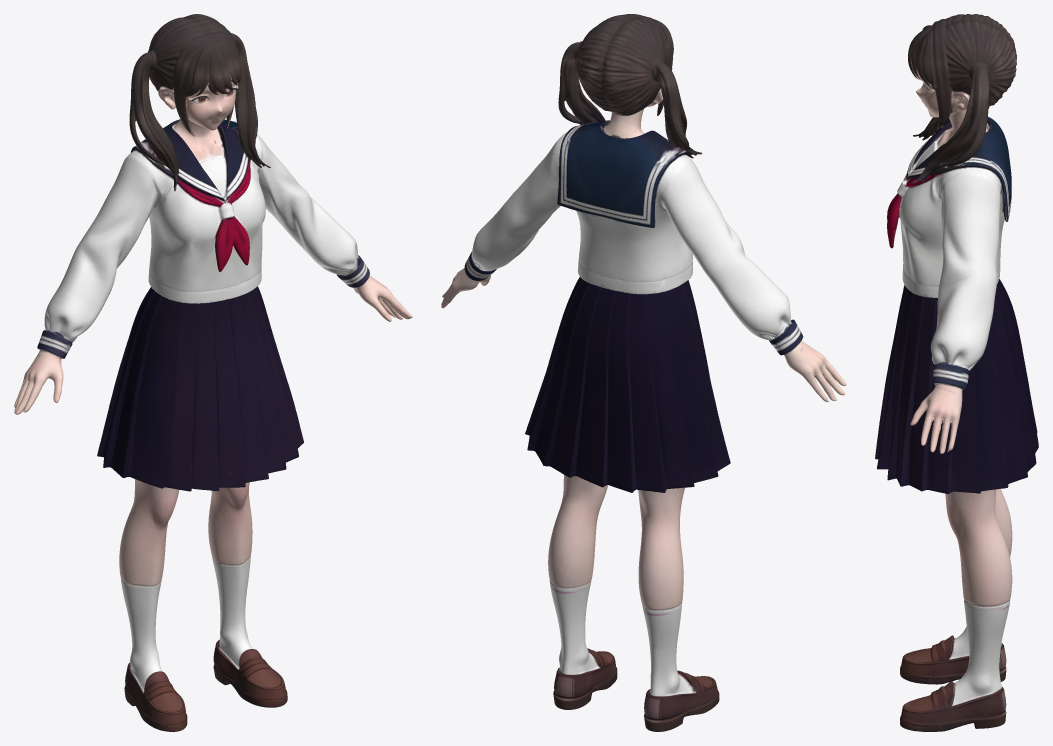
Rendered from player.glb.
The picture shows the model from 3 angles, left to right: view 1: azimuth 30°, elevation 25°; view 2: azimuth 150°, elevation 25°; view 3: azimuth 270°, elevation 25°; orthographic projection.
Parts seen in each view (by area): view 1: mesh_node_0; view 2: mesh_node_0; view 3: mesh_node_0.
Part boxes in pixels (x1=…): mesh_node_0: x1=14, y1=14, x2=412, y2=731; mesh_node_0: x1=441, y1=14, x2=846, y2=731; mesh_node_0: x1=875, y1=14, x2=1038, y2=731.
Size of the model in its own units: 0.9812 by 1.6 by 0.3485.
Materials: 1 (1 with a texture image).
